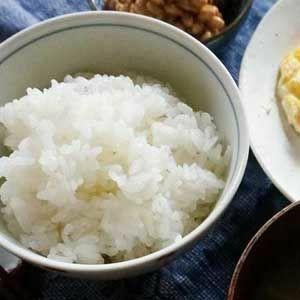WhiteRice: (2, 65, 232, 265)
